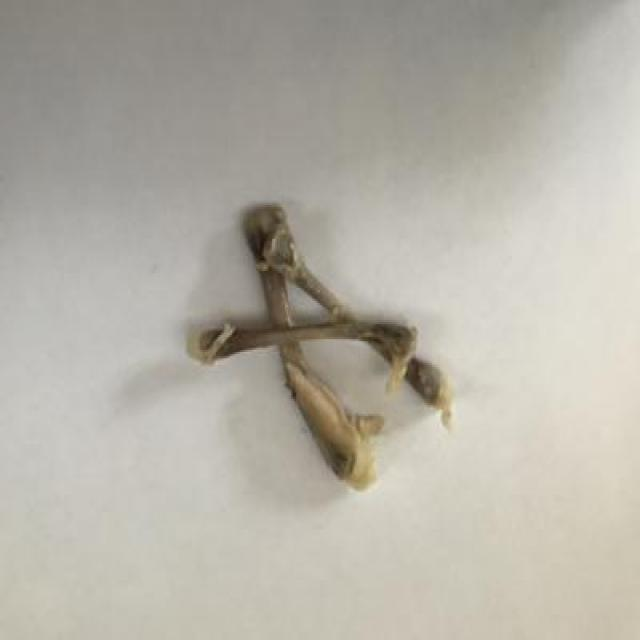compost: (194, 189, 466, 490)
